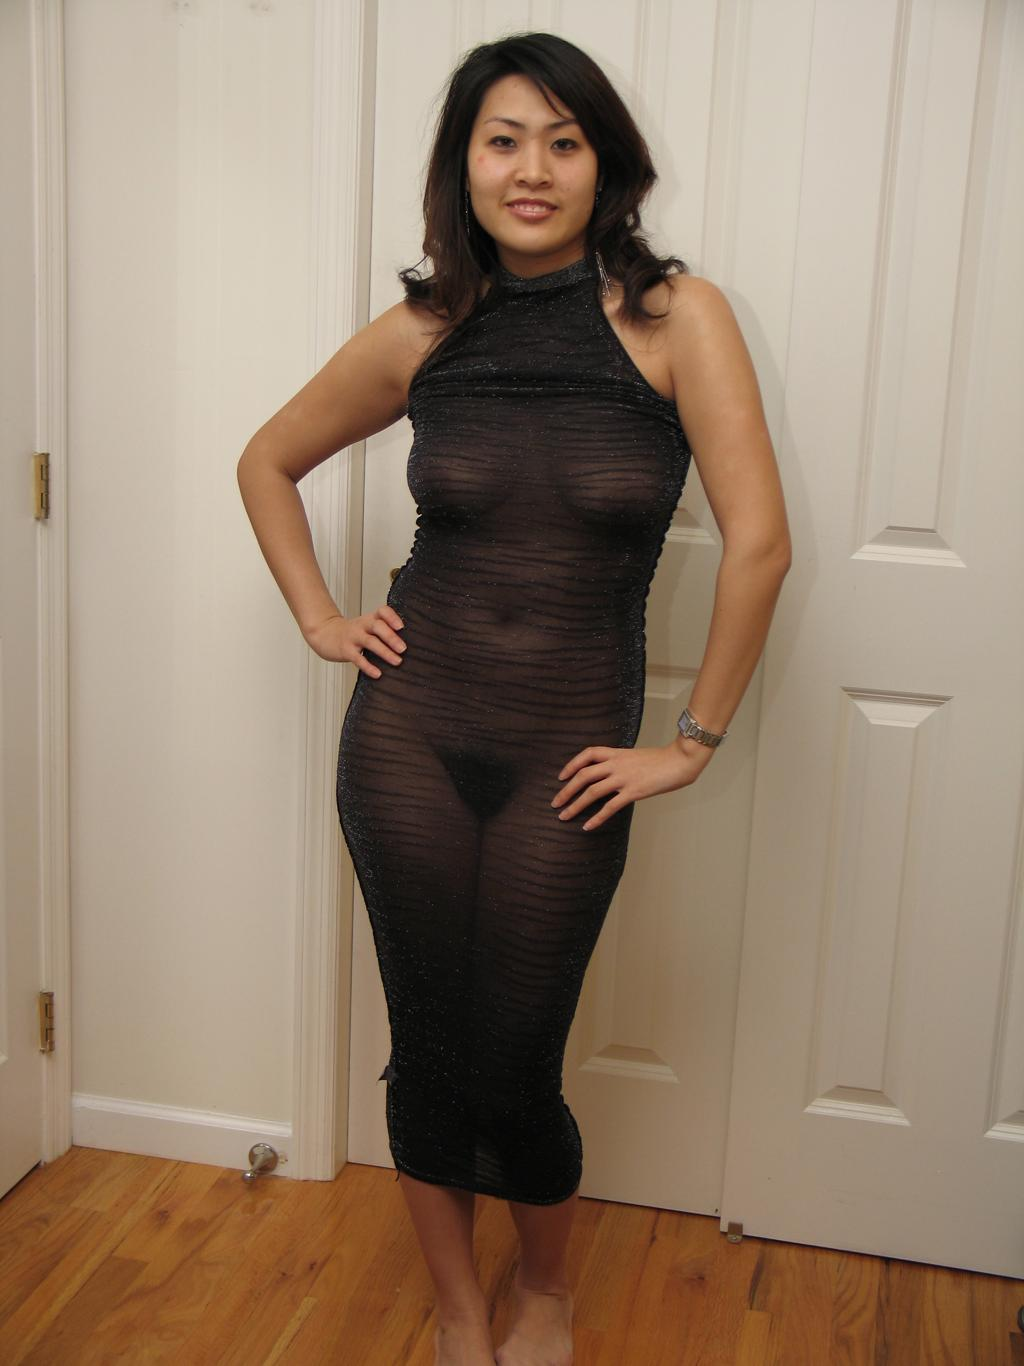face: (464, 75, 603, 251)
